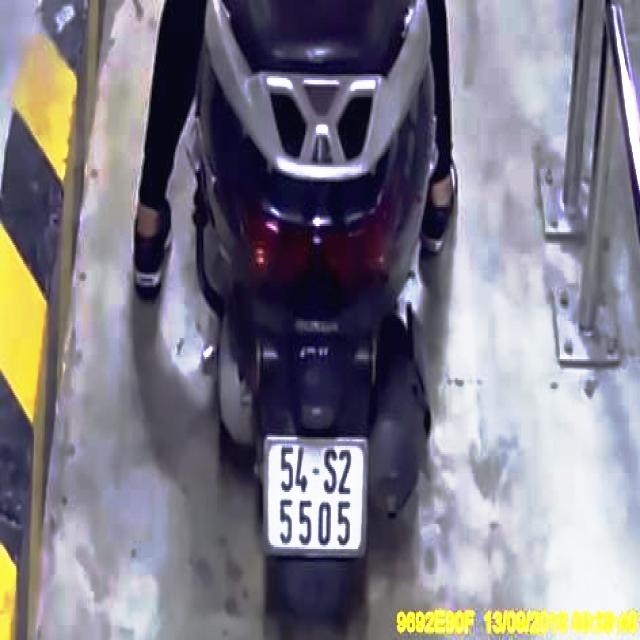license_plate: (262, 436, 370, 559)
